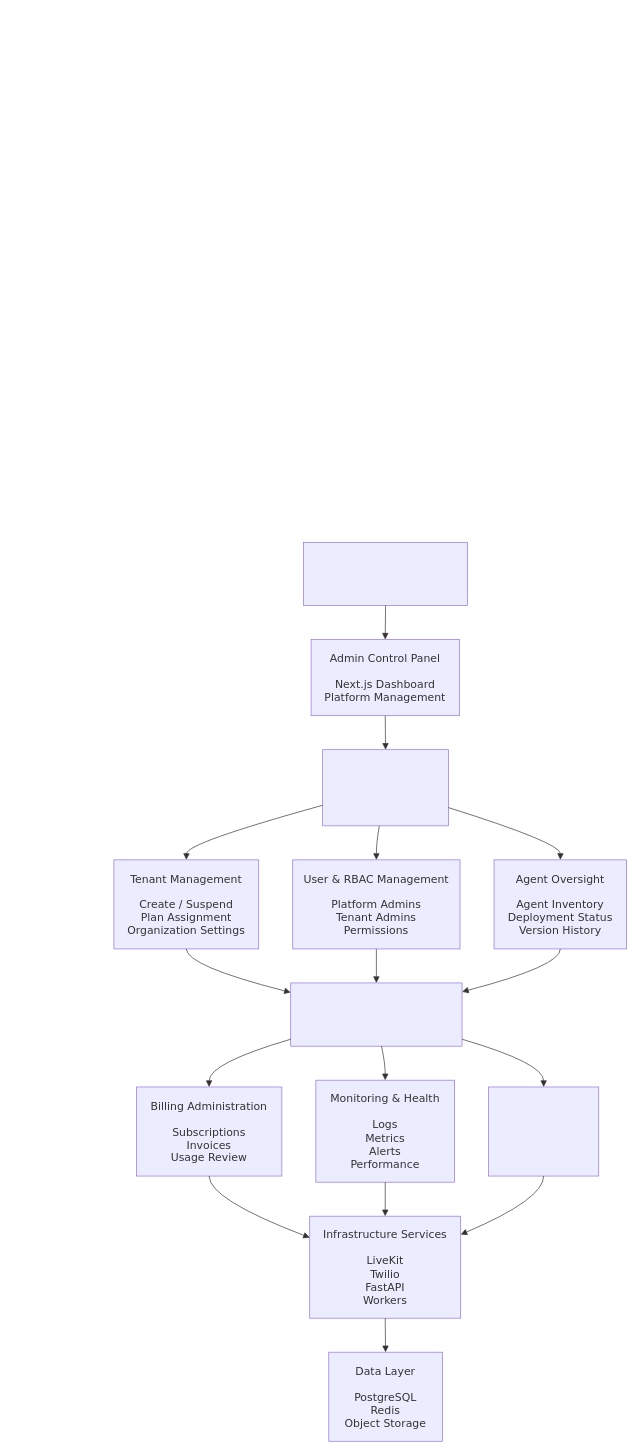
This 639x1453 diagram has some shape labels left out. The shapes that lost their labels are listed below. From the top down, each one's centre as x and y in pixels, then its label:
At (385,574): "Platform Administrator Internal Operations Team".
At (385,787): "Admin API FastAPI Platform Services".
At (376,1014): "Platform Operations Central Management Layer".
At (543,1131): "Support Tools Impersonation Diagnostics Audit Logs".
